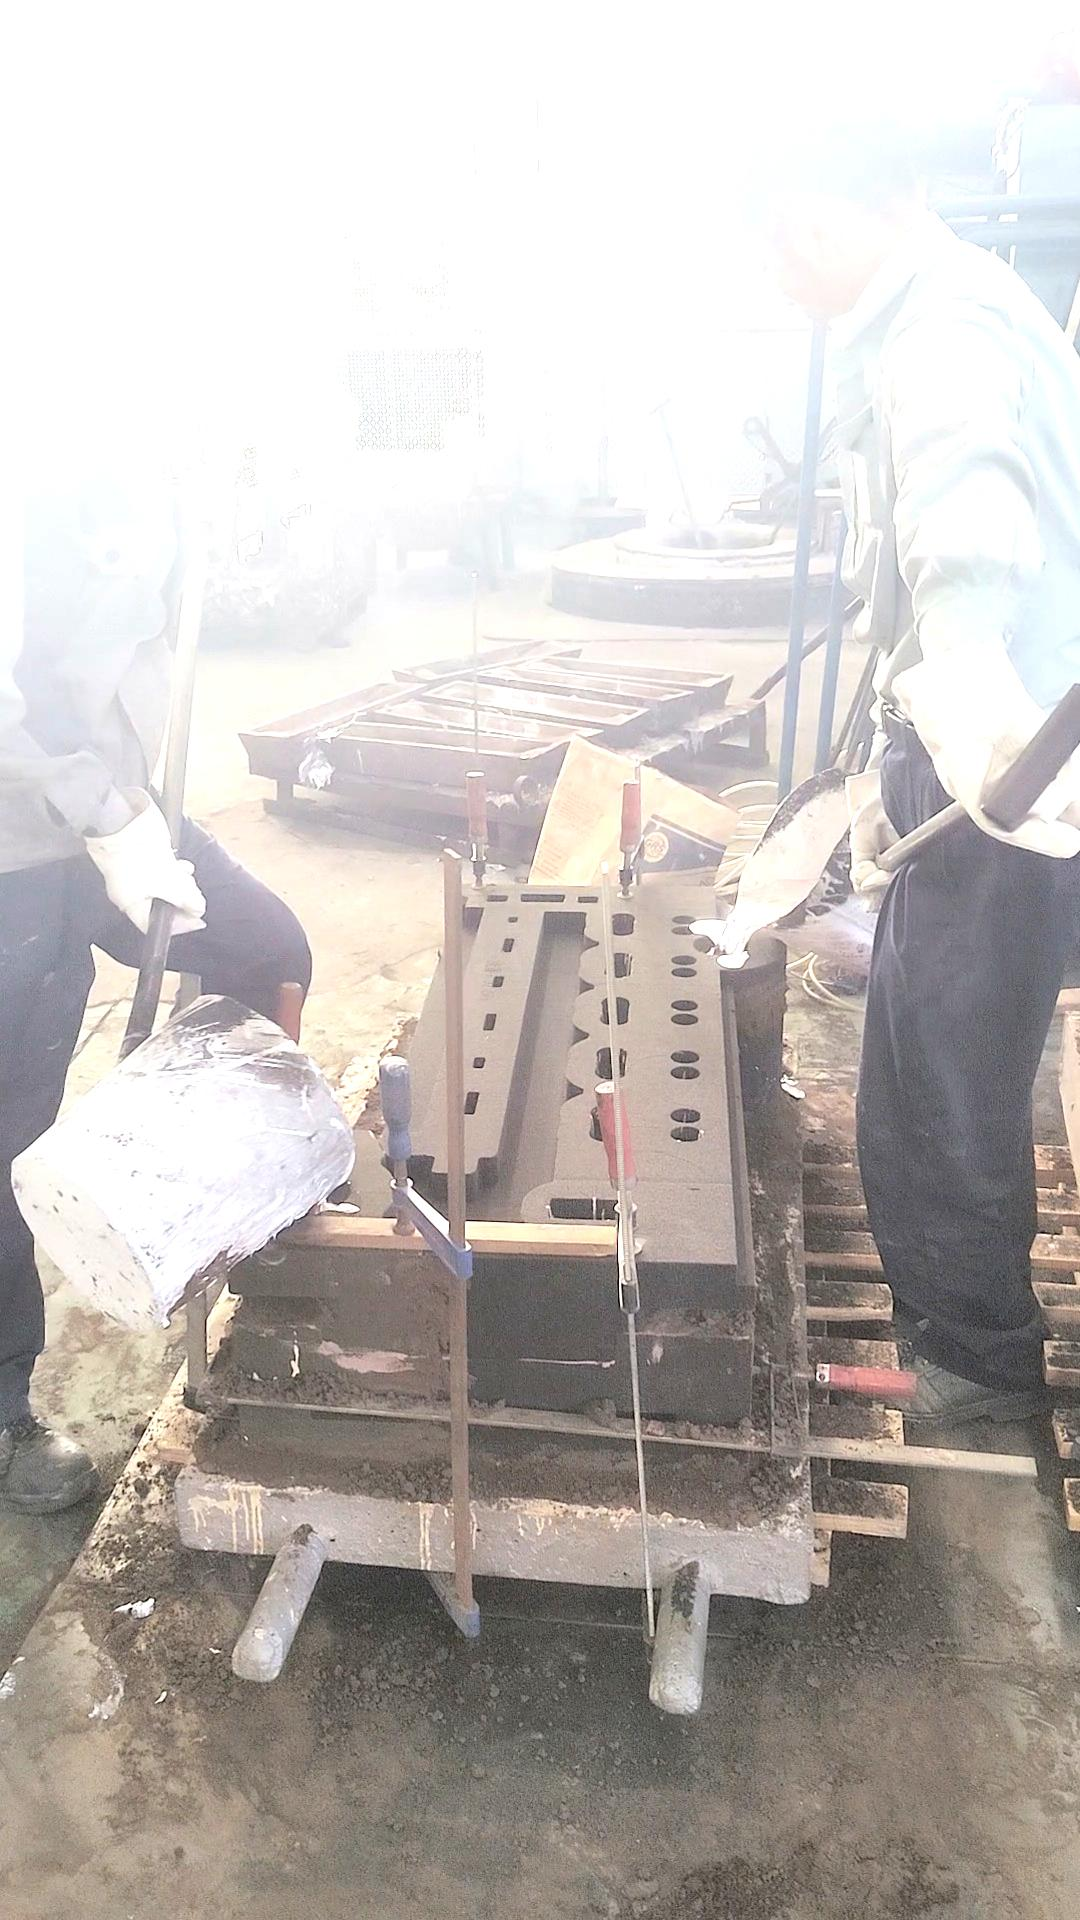pouring hole: (284, 1167, 349, 1215), (692, 934, 749, 955)
